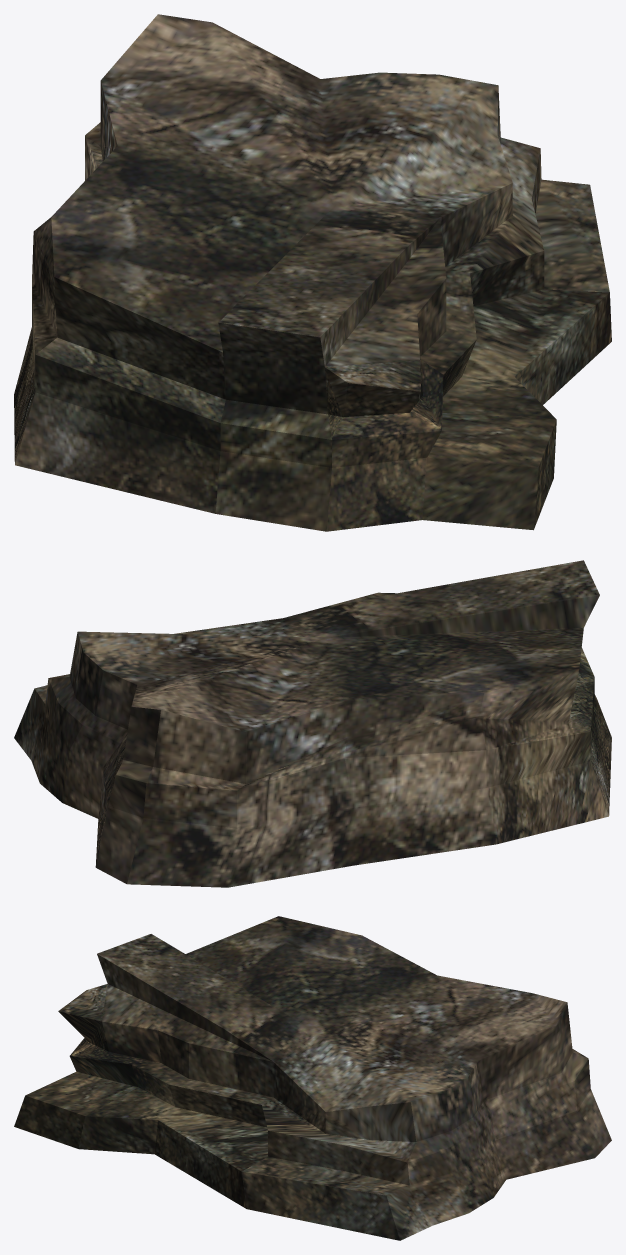
The model's file is S_stone_A01.FBX.
The picture shows the model from 3 angles, top to bottom: view 1: azimuth 30°, elevation 25°; view 2: azimuth 150°, elevation 25°; view 3: azimuth 270°, elevation 25°; orthographic projection. The views are drawn at different scales.
Visible parts, largest first — view 1: S_rock_A01; view 2: S_rock_A01; view 3: S_rock_A01.
Boxes of the visible parts, box(x1,y1,x2,y2) form: S_rock_A01: box(14, 14, 611, 531); S_rock_A01: box(14, 560, 611, 887); S_rock_A01: box(14, 916, 611, 1240).
Bounding box in the file's own units: 1405 × 413 × 1620.
